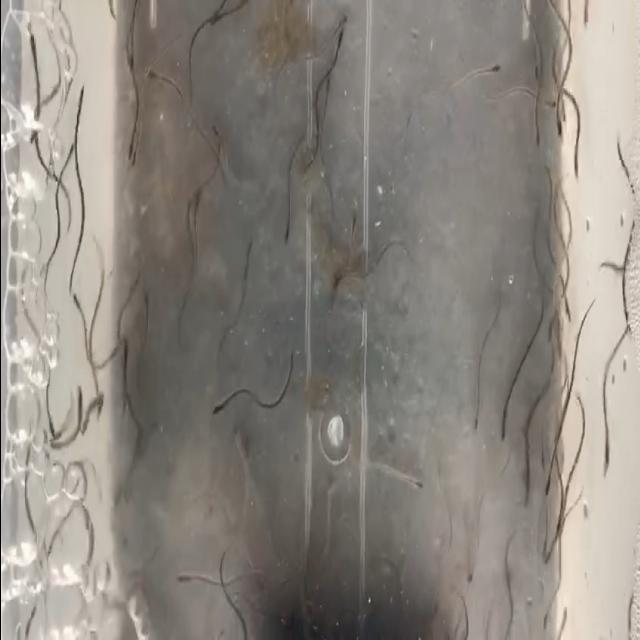active_glass_eel: (578, 0, 598, 35), (570, 145, 586, 187), (112, 327, 130, 362), (328, 264, 346, 298), (22, 16, 38, 54), (552, 102, 565, 148), (600, 434, 612, 482), (330, 14, 348, 46), (208, 121, 224, 157), (72, 83, 88, 119), (529, 126, 544, 164), (142, 54, 160, 85), (62, 134, 78, 168), (68, 282, 85, 314), (484, 62, 506, 86), (542, 460, 556, 496), (541, 86, 558, 115), (211, 396, 229, 422), (242, 235, 256, 268), (498, 408, 508, 453), (211, 0, 226, 30), (560, 292, 574, 324), (409, 473, 429, 495), (175, 567, 198, 586), (530, 50, 542, 86), (125, 124, 136, 162), (538, 542, 554, 568), (518, 486, 530, 520), (130, 142, 142, 176), (620, 308, 632, 342), (540, 598, 551, 634), (542, 320, 556, 348), (192, 184, 204, 216), (125, 44, 137, 74), (44, 411, 54, 447), (282, 216, 292, 250), (464, 558, 476, 586), (332, 30, 343, 60), (350, 206, 361, 235), (472, 404, 482, 432), (142, 291, 150, 309)
